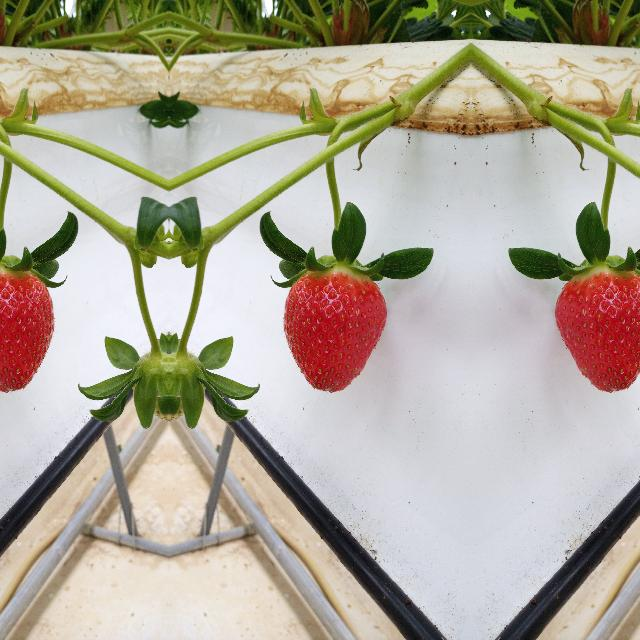Health_100: (281, 269, 387, 393), (554, 269, 640, 393), (0, 269, 55, 393)
